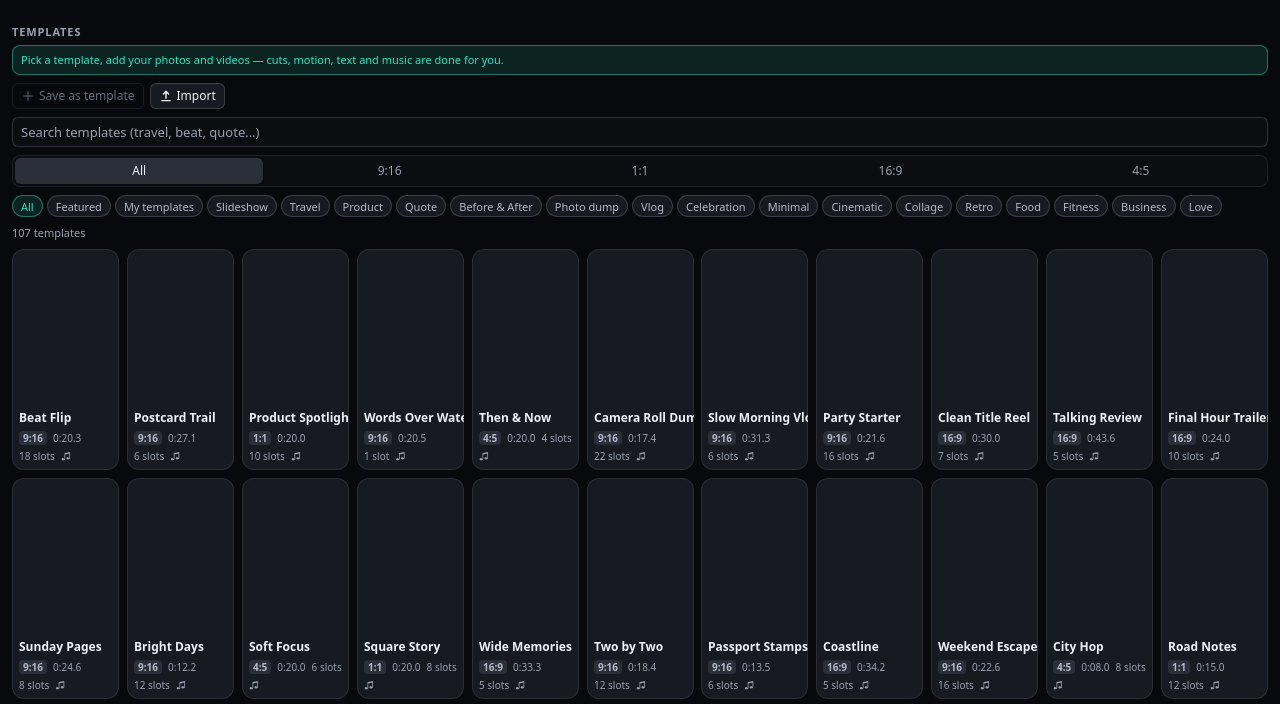
it: Templates panel — fill and apply › auto-fills slots from picked files, cycles the rest, edits text and applies as one undo step
Later steps or results of the test are not shown.
Click the button with aria-label "Open template Then & Now" at (525, 359), box [472,249,578,470]
(page scrolled)
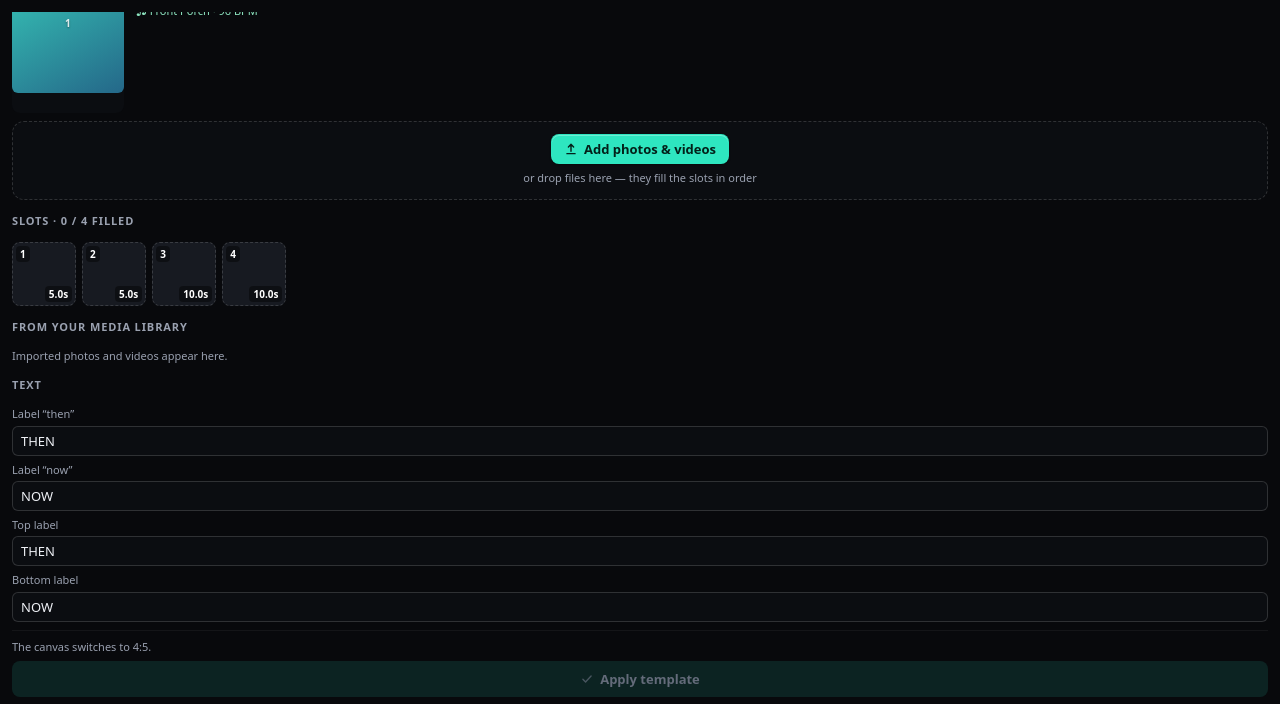
Now the text "Slots · 0 / 4 filled" is shown, box [12,213,134,228]
Now the button "Apply template" is disabled, box [12,661,1268,697]
